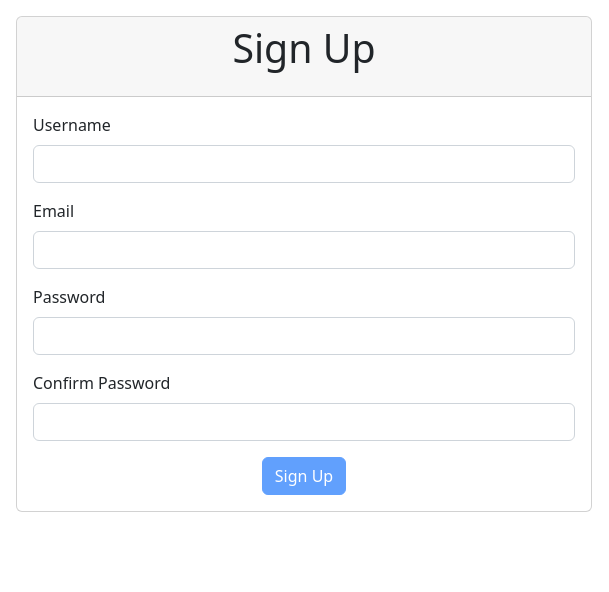
Sign Up Page › Interactions › hides spinner after error response received
Type "gideonpeters" into the field labelled "Username". click: (304, 164)
box: [33, 145, 575, 183]
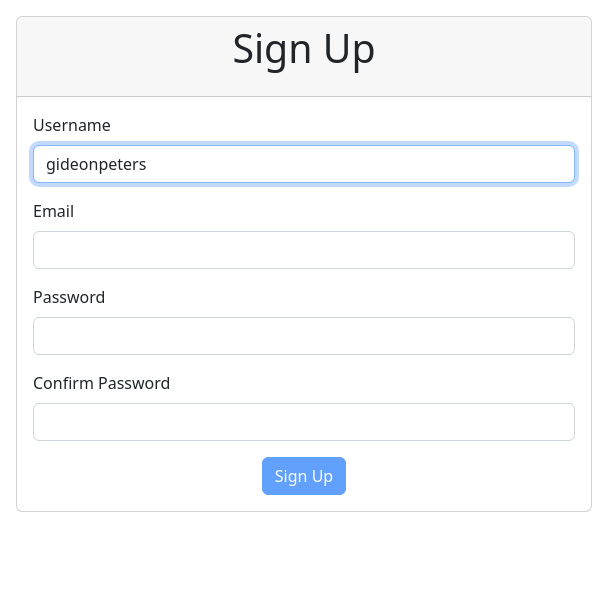
Type "gideonpeters85@gmail.com" into the field labelled "Email". click: (304, 250)
box: [33, 231, 575, 269]
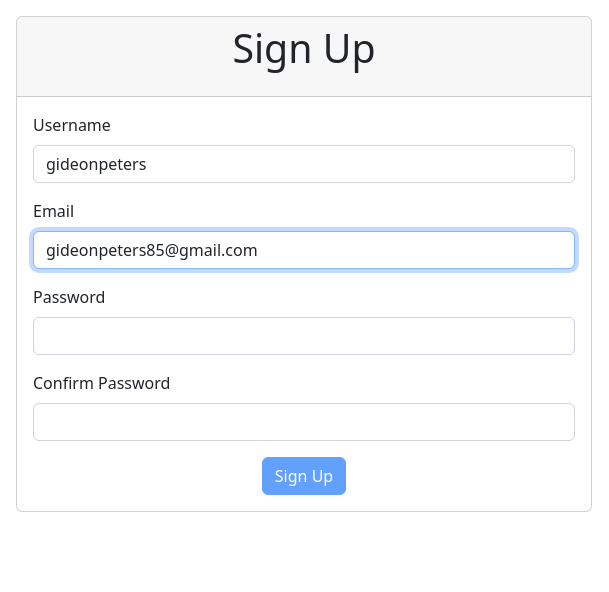
Type "P4ssword" into the password field labelled "Password". click: (304, 336)
box: [33, 317, 575, 355]
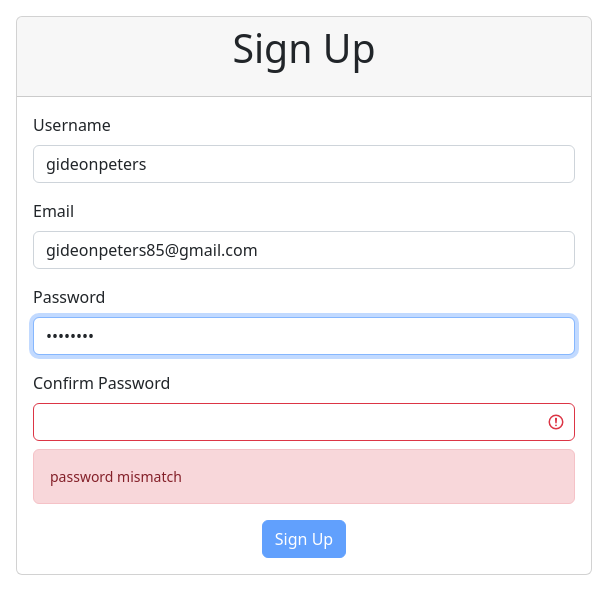
Type "P4ssword" into the password field labelled "Confirm Password". click: (304, 422)
box: [33, 403, 575, 441]
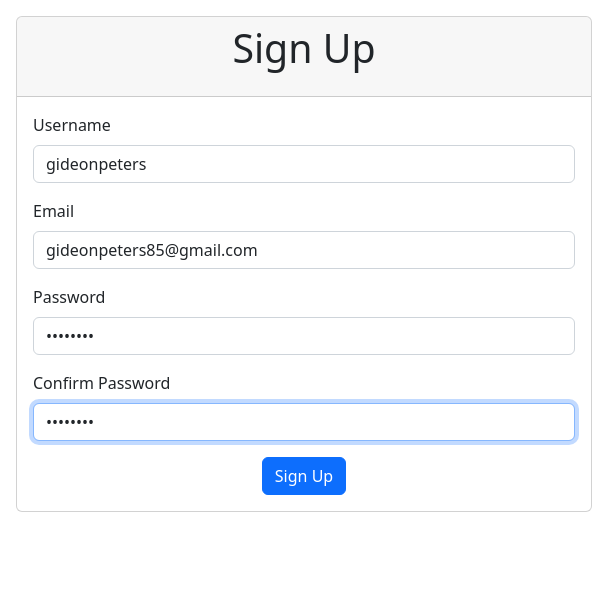
Click the button "Sign Up". click: (304, 476)
box: [262, 457, 346, 495]
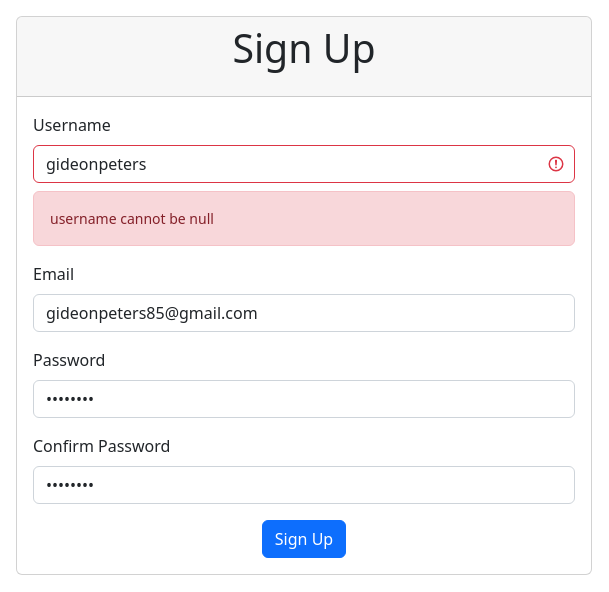
Now the text "username cannot be null" is shown, box [33, 191, 575, 246]
